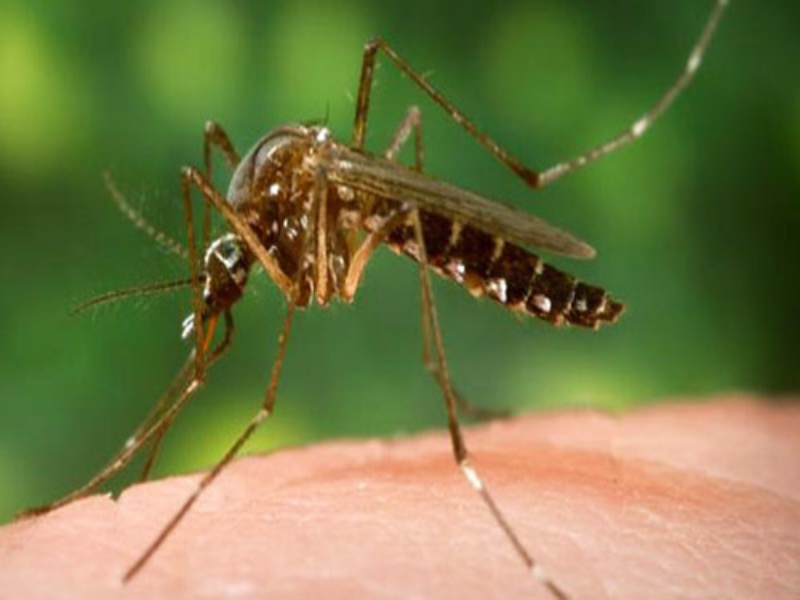dengue_mosquito: (149, 39, 579, 395)
